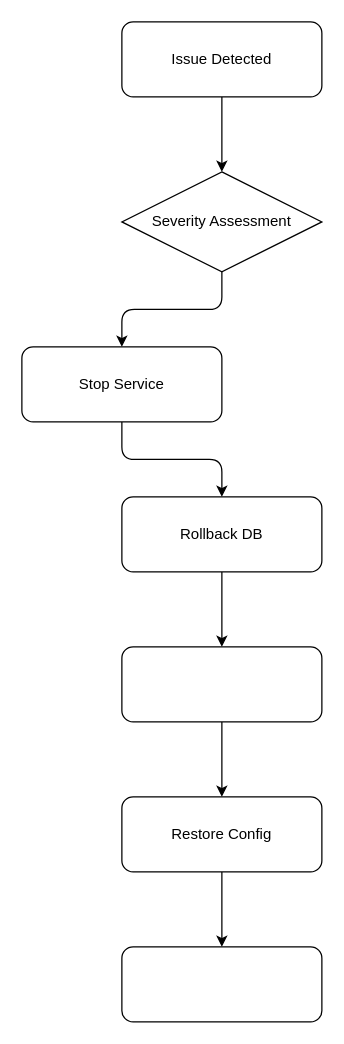
Some shapes in this 344 by 1044 pixel diagram are drawn without their labels. Each missing label, with the box of its shape:
Deploy Previous Version: (121, 646, 322, 722)
Verify Rollback: (121, 946, 322, 1022)
